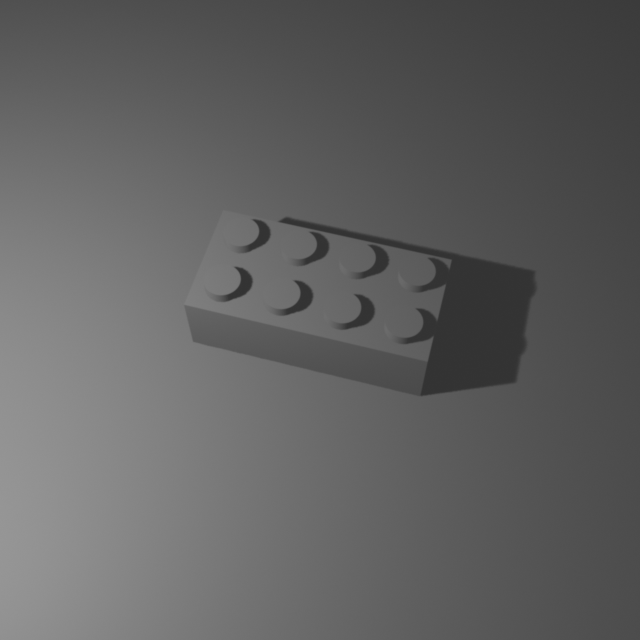lego_2x4: (182, 203, 453, 396)
